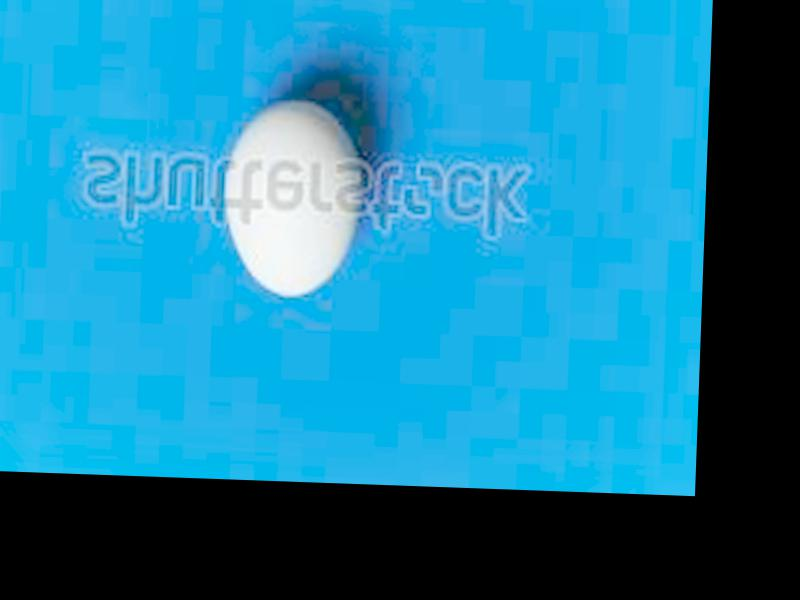Eggs: (224, 98, 363, 304)
